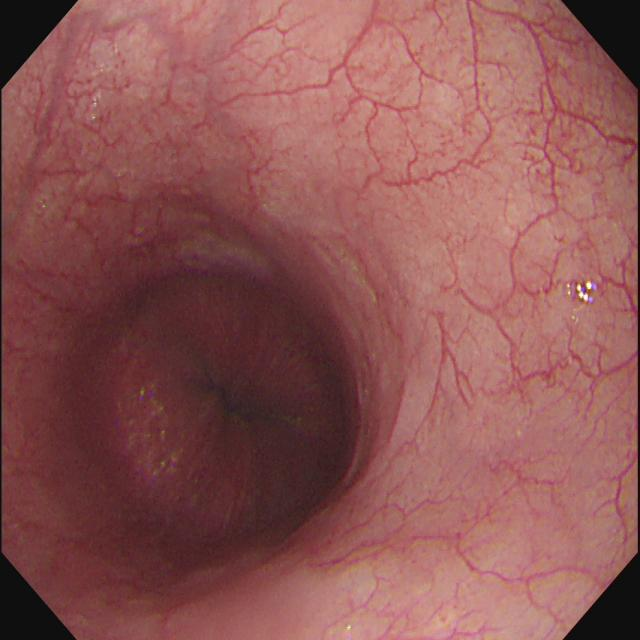I: (85, 256, 364, 560)
U: (565, 279, 598, 309)
